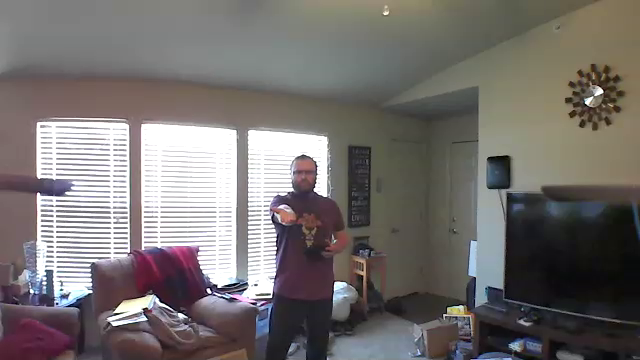land: (266, 203, 299, 226)
